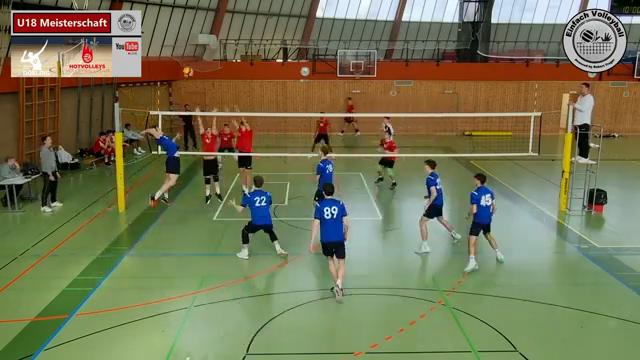Attack: (140, 121, 182, 210)
Block: (193, 104, 224, 207), (225, 103, 255, 201)
Player: (229, 175, 287, 259), (309, 183, 347, 301), (416, 159, 460, 253), (464, 173, 503, 272), (314, 145, 333, 203), (311, 116, 329, 151), (219, 123, 234, 152), (380, 133, 396, 154), (382, 117, 394, 138)
ball: (182, 66, 193, 76)
